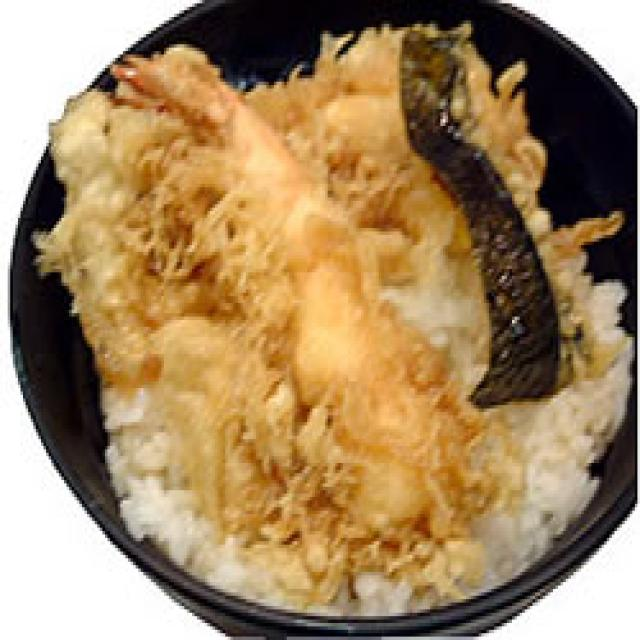熟制海鲜: (0, 0, 632, 623)
